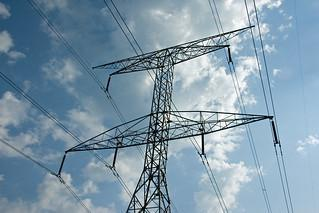power_tower: (39, 24, 268, 213)
